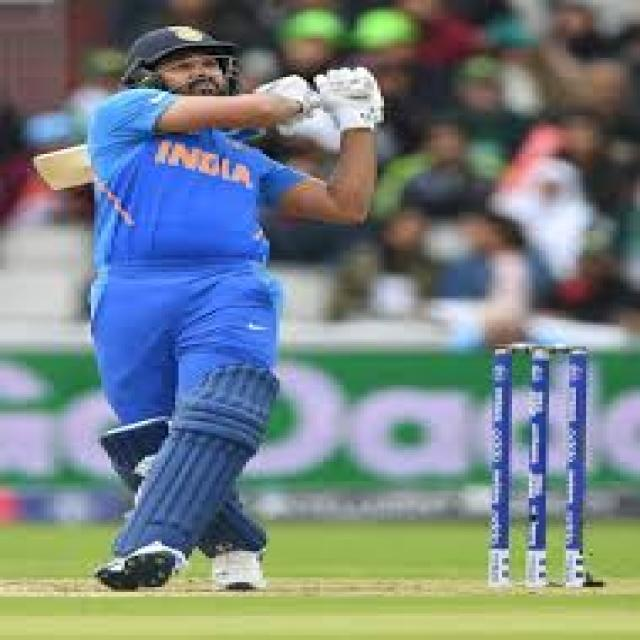toe: (24, 152, 72, 193)
